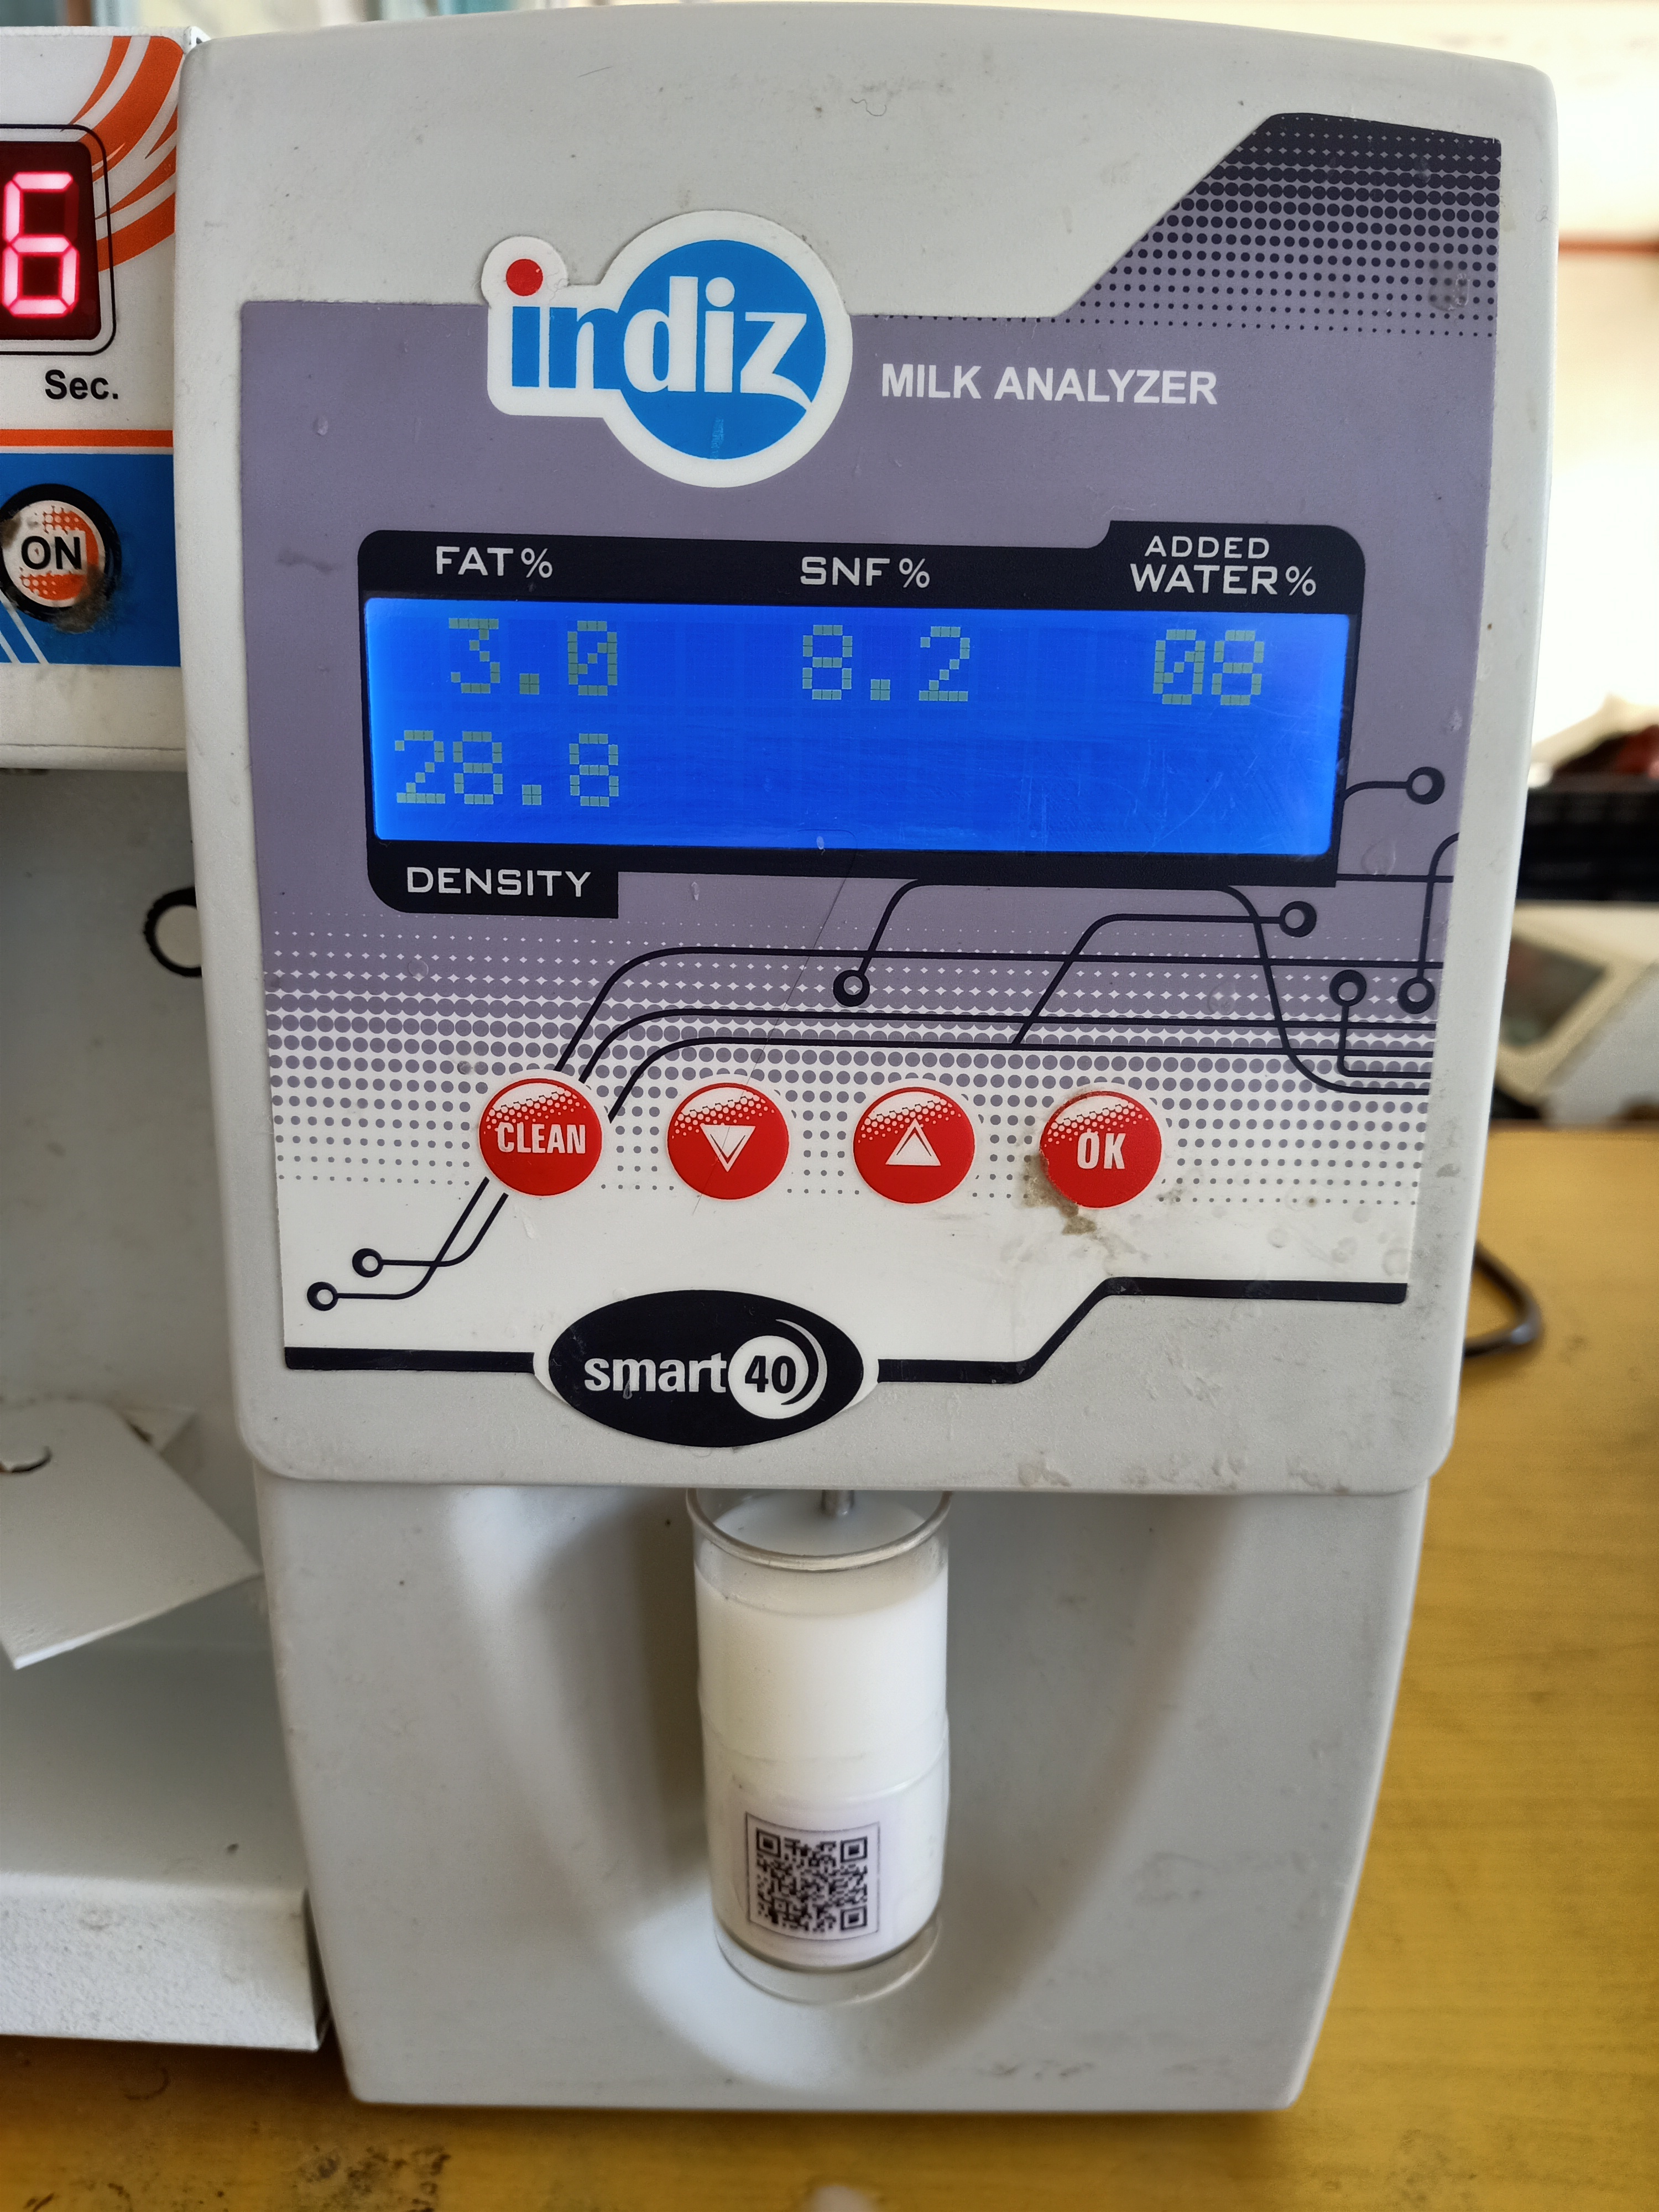lcd: (340, 516, 1366, 920)
qr: (744, 1804, 890, 1973)
